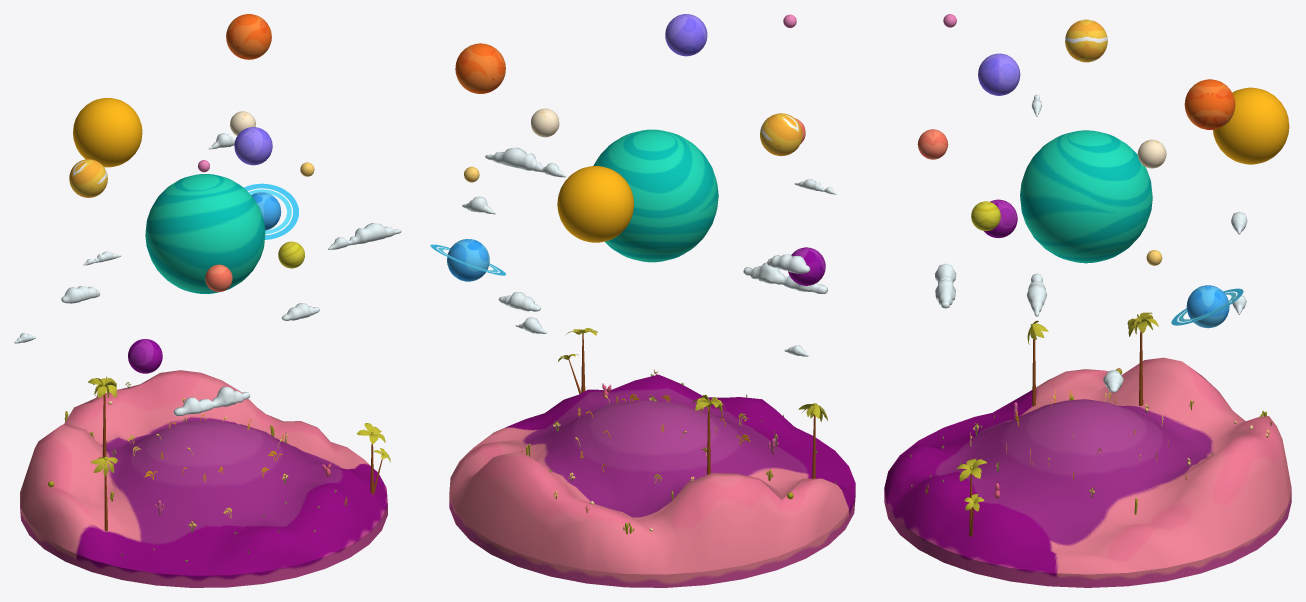
Rendered from MDL_20_Pag 5-6_Props.fbx.
The picture shows the model from 3 angles, left to right: view 1: azimuth 30°, elevation 25°; view 2: azimuth 150°, elevation 25°; view 3: azimuth 270°, elevation 25°; orthographic projection. The views are drawn at different scales.
Parts seen in each view (by area): view 1: MDL_Piso_base_circular, MDL_Planeta_12, MDL_Planeta_11, MDL_Planeta_2, MDL_Planeta_6, MDL_Planeta_5, MDL_Planeta_3, MDL_Nube_5, MDL_Planeta_1, MDL_Nube_7, MDL_Palmera_Doble, MDL_Palmera_A (+4 smaller); view 2: MDL_Piso_base_circular, MDL_Planeta_12, MDL_Planeta_11, MDL_Planeta_2, MDL_Planeta_6, MDL_Planeta_5, MDL_Planeta_3, MDL_Nube_7, MDL_Nube_5, MDL_Planeta_1, MDL_Planeta_9, MDL_Nube_6; view 3: MDL_Piso_base_circular, MDL_Planeta_12, MDL_Planeta_11, MDL_Planeta_2, MDL_Planeta_6, MDL_Planeta_5, MDL_Planeta_3, MDL_Palmera_Doble, MDL_Nube_5, MDL_Planeta_7, MDL_Planeta_1, MDL_Planeta_4 (+3 smaller).
Part boxes in pixels (left/top/right/bottom): MDL_Piso_base_circular: left=20, top=370, right=387, bottom=587; MDL_Planeta_12: left=145, top=174, right=265, bottom=293; MDL_Planeta_11: left=73, top=98, right=142, bottom=167; MDL_Planeta_2: left=226, top=14, right=271, bottom=59; MDL_Planeta_6: left=244, top=183, right=298, bottom=239; MDL_Planeta_5: left=69, top=159, right=107, bottom=197; MDL_Planeta_3: left=234, top=127, right=272, bottom=165; MDL_Nube_5: left=173, top=386, right=250, bottom=415; MDL_Planeta_1: left=128, top=339, right=162, bottom=373; MDL_Nube_7: left=328, top=223, right=401, bottom=249; MDL_Palmera_Doble: left=357, top=423, right=390, bottom=495; MDL_Palmera_A: left=88, top=376, right=116, bottom=457; MDL_Piso_base_circular: left=449, top=374, right=855, bottom=587; MDL_Planeta_12: left=593, top=129, right=718, bottom=262; MDL_Planeta_11: left=557, top=166, right=634, bottom=242; MDL_Planeta_2: left=455, top=43, right=505, bottom=93; MDL_Planeta_6: left=430, top=239, right=505, bottom=281; MDL_Planeta_5: left=760, top=113, right=802, bottom=156; MDL_Planeta_3: left=665, top=14, right=707, bottom=56; MDL_Nube_7: left=485, top=147, right=566, bottom=177; MDL_Nube_5: left=743, top=262, right=827, bottom=293; MDL_Planeta_1: left=788, top=247, right=825, bottom=285; MDL_Planeta_9: left=530, top=108, right=559, bottom=137; MDL_Nube_6: left=767, top=254, right=810, bottom=273; MDL_Piso_base_circular: left=884, top=357, right=1291, bottom=587; MDL_Planeta_12: left=1020, top=130, right=1152, bottom=263; MDL_Planeta_11: left=1213, top=87, right=1289, bottom=164; MDL_Planeta_2: left=1184, top=79, right=1235, bottom=129; MDL_Planeta_6: left=1171, top=285, right=1243, bottom=328; MDL_Planeta_5: left=1065, top=19, right=1107, bottom=62; MDL_Planeta_3: left=978, top=53, right=1020, bottom=95; MDL_Palmera_Doble: left=956, top=458, right=986, bottom=536; MDL_Nube_5: left=935, top=263, right=956, bottom=308; MDL_Planeta_7: left=917, top=129, right=948, bottom=159; MDL_Planeta_1: left=984, top=199, right=1017, bottom=238; MDL_Planeta_4: left=971, top=201, right=1000, bottom=230.
Bounding box in the file's own units: 3471 × 4191 × 3263.
